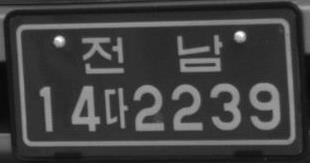1: (34, 84, 60, 132)
2: (170, 82, 204, 132), (132, 83, 165, 132)
3: (208, 81, 242, 132)
4: (70, 84, 100, 132)
9: (248, 80, 282, 132)
다: (102, 86, 129, 129)
전남_D: (80, 33, 223, 75)
